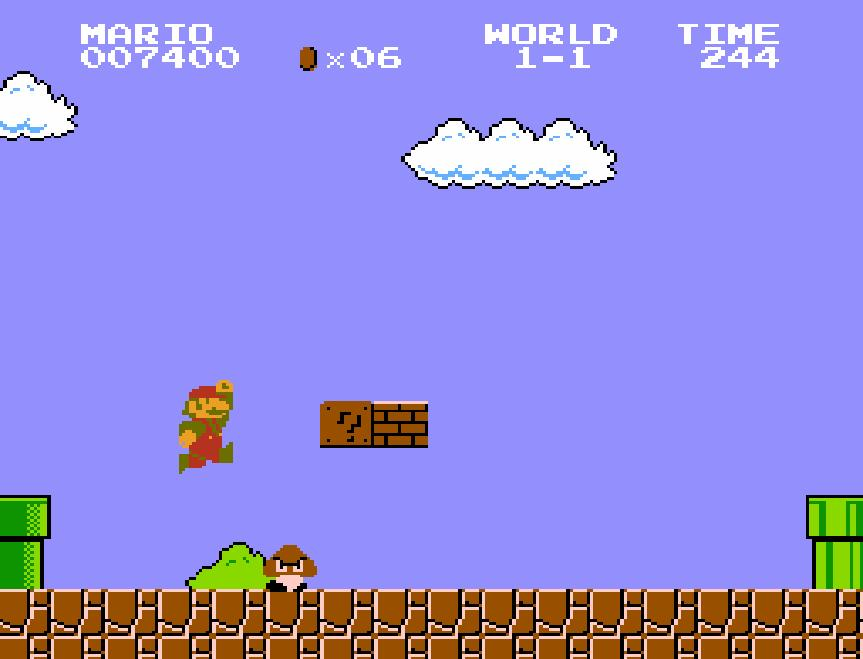big_mario: (176, 378, 234, 476)
